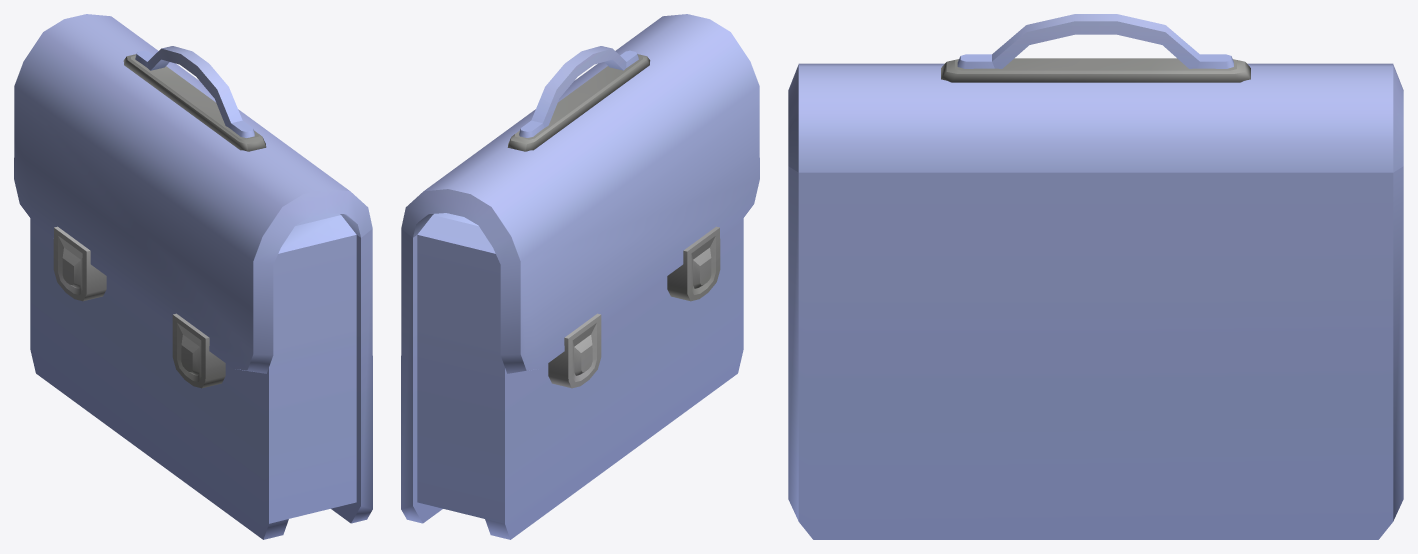
File: Suitcase_1_1_I.fbx
3 views of the same model, side by side, from view 1: azimuth 30°, elevation 25°; view 2: azimuth 150°, elevation 25°; view 3: azimuth 270°, elevation 25° (orthographic). The views are drawn at different scales.
Visible parts, largest first — view 1: Suitcase_1_1_I; view 2: Suitcase_1_1_I; view 3: Suitcase_1_1_I.
Part boxes in pixels (left/top/right/bottom): Suitcase_1_1_I: left=14, top=14, right=372, bottom=539; Suitcase_1_1_I: left=401, top=14, right=759, bottom=539; Suitcase_1_1_I: left=788, top=14, right=1403, bottom=539.
Bounding box in the file's own units: 16.04 × 47.79 × 54.73.
